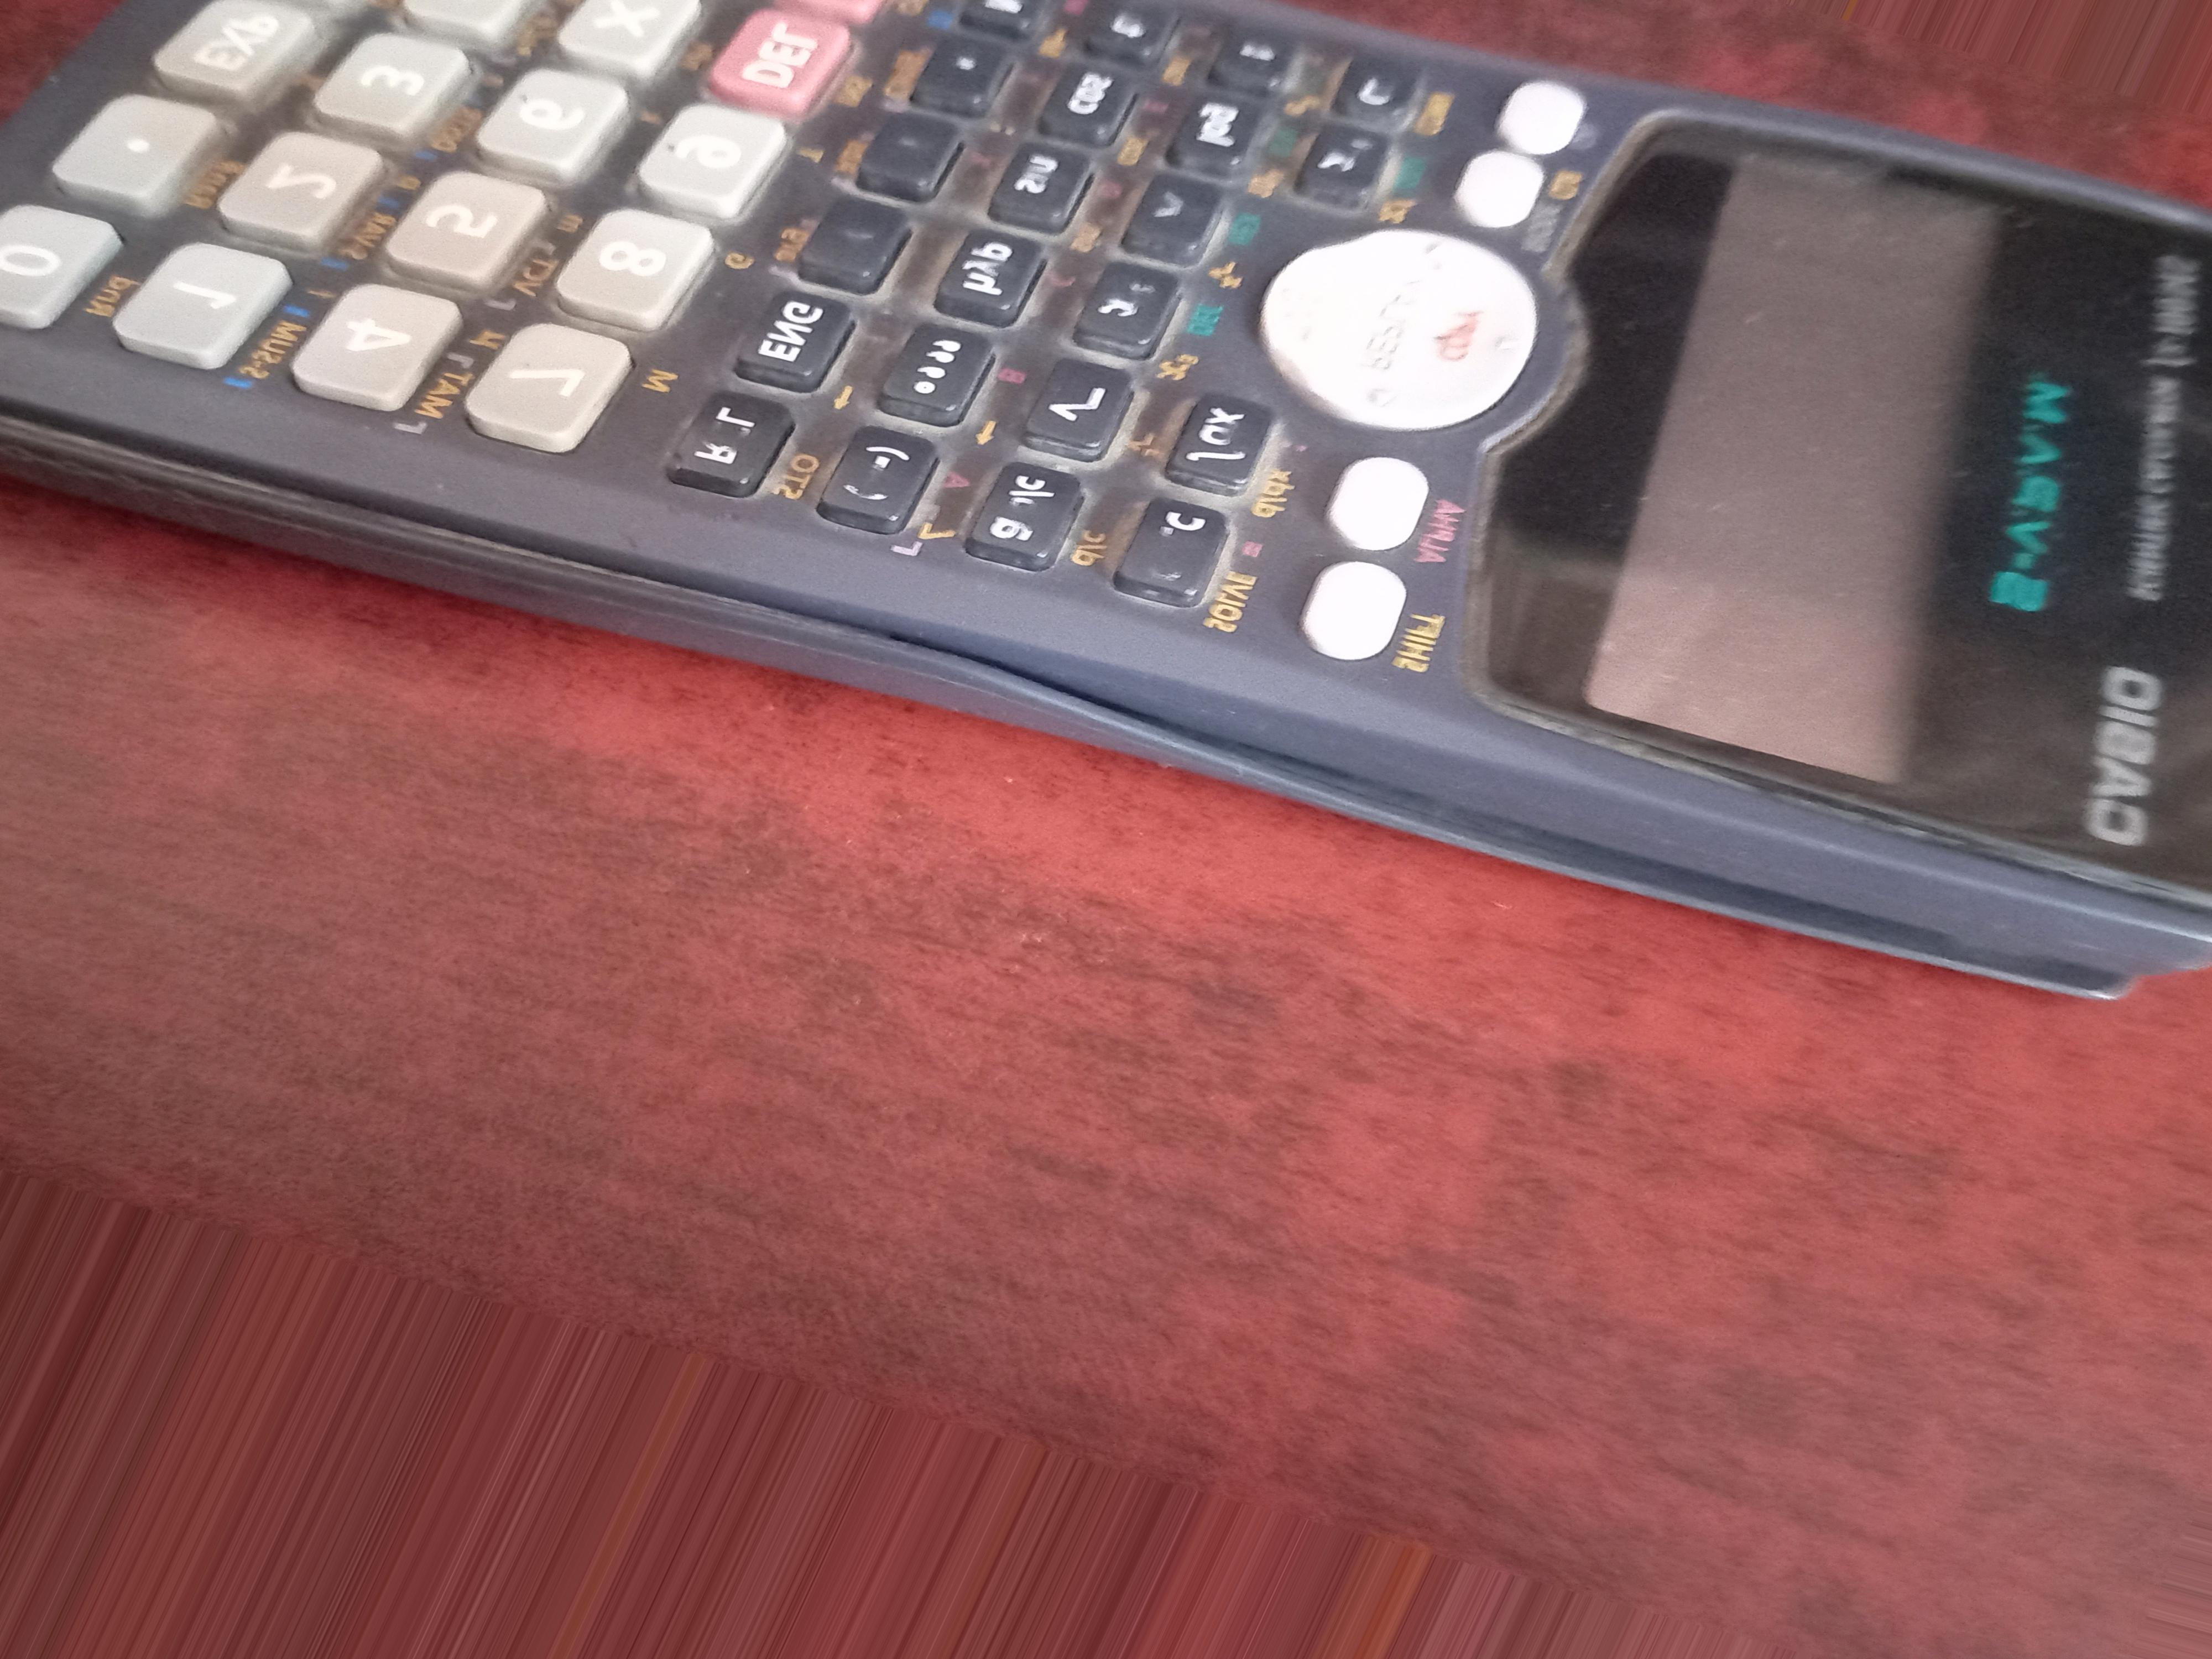calculator: (47, 0, 2207, 896)
